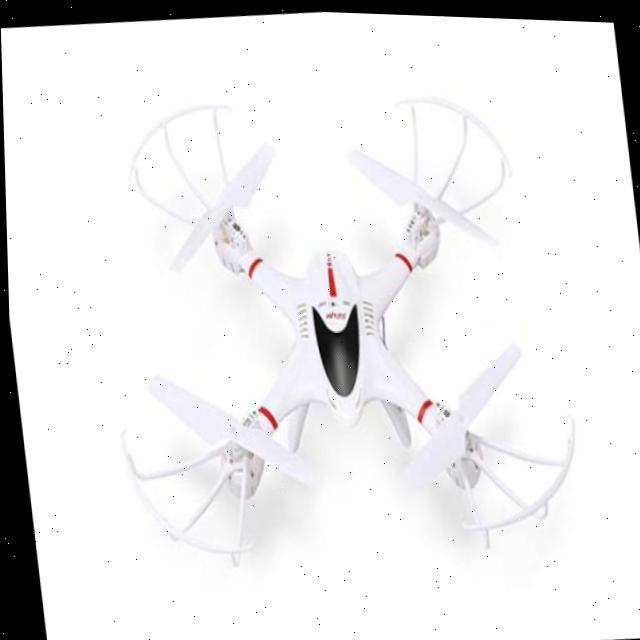drones: (62, 46, 606, 633)
